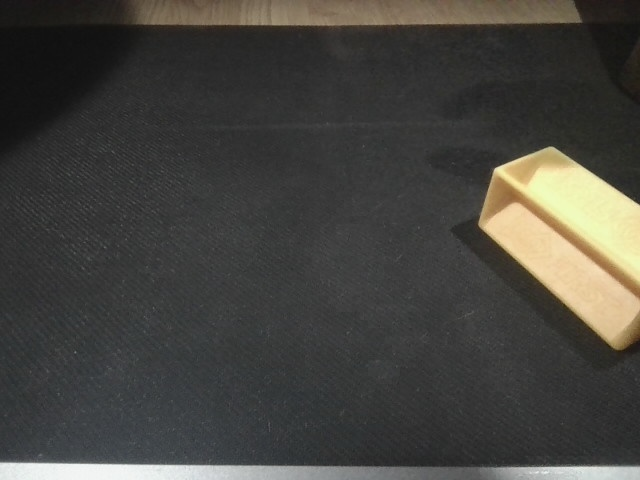YellowSample: (473, 138, 640, 355)
